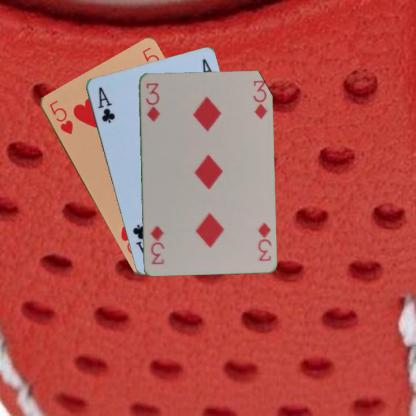3d: (143, 80, 161, 123), (255, 219, 272, 262)
5h: (46, 97, 75, 136)
Ac: (95, 84, 116, 124)
